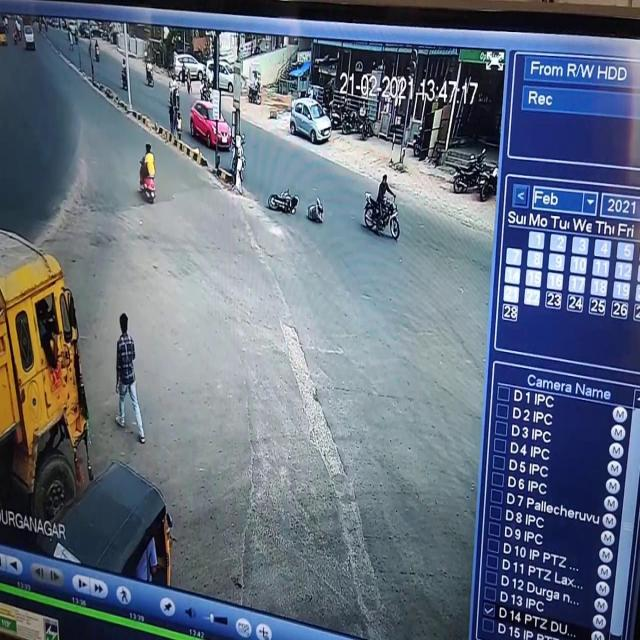accident: (266, 182, 330, 233)
